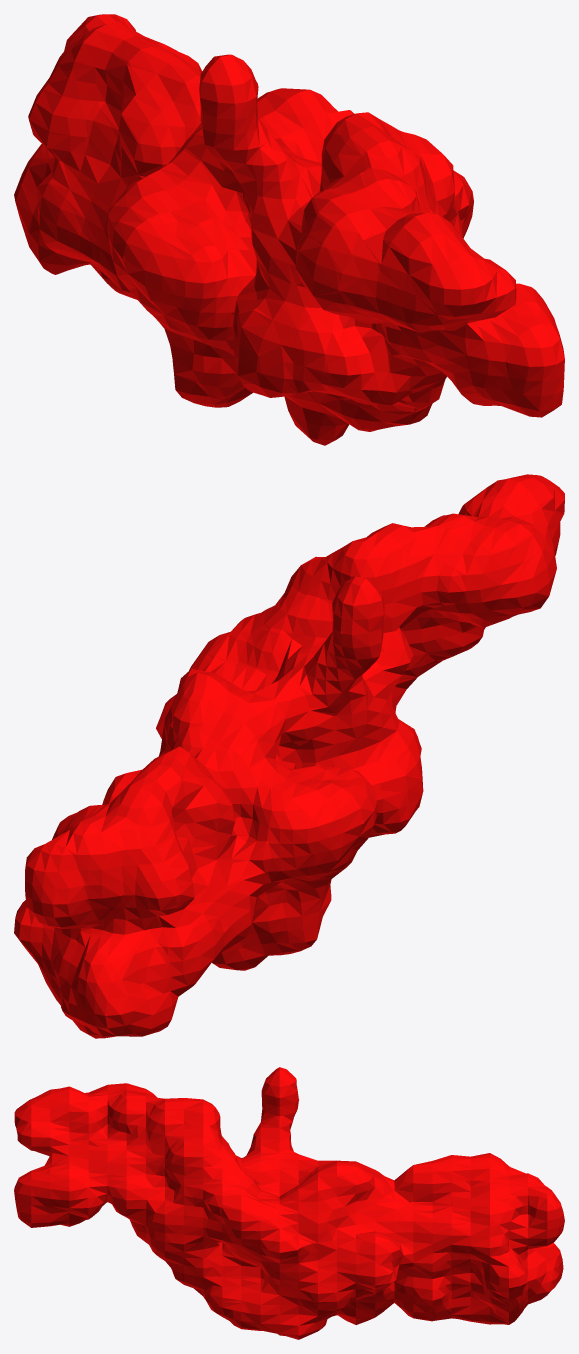
The model's file is cusA_coarse.dae.
3 renders of one model, top to bottom at view 1: azimuth 30°, elevation 25°; view 2: azimuth 150°, elevation 25°; view 3: azimuth 270°, elevation 25°, orthographic. The views are drawn at different scales.
Parts seen in each view (by area): view 1: cusA; view 2: cusA; view 3: cusA.
Part boxes in pixels (box(x1,y1,x2,y2)): cusA: box(14, 14, 564, 445); cusA: box(14, 474, 564, 1038); cusA: box(14, 1067, 564, 1339).
Bounding box in the file's own units: 70.05 × 95.94 × 202.
